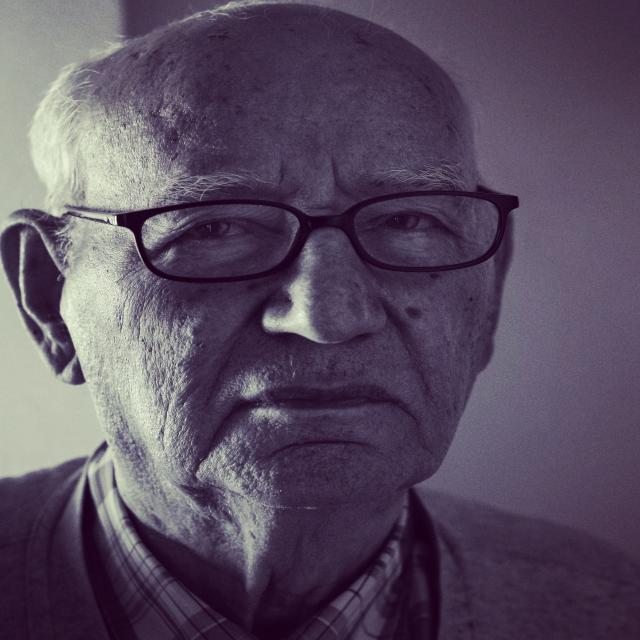Glasses: (62, 185, 522, 284)
